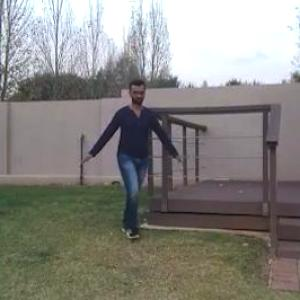land: (77, 66, 190, 260)
